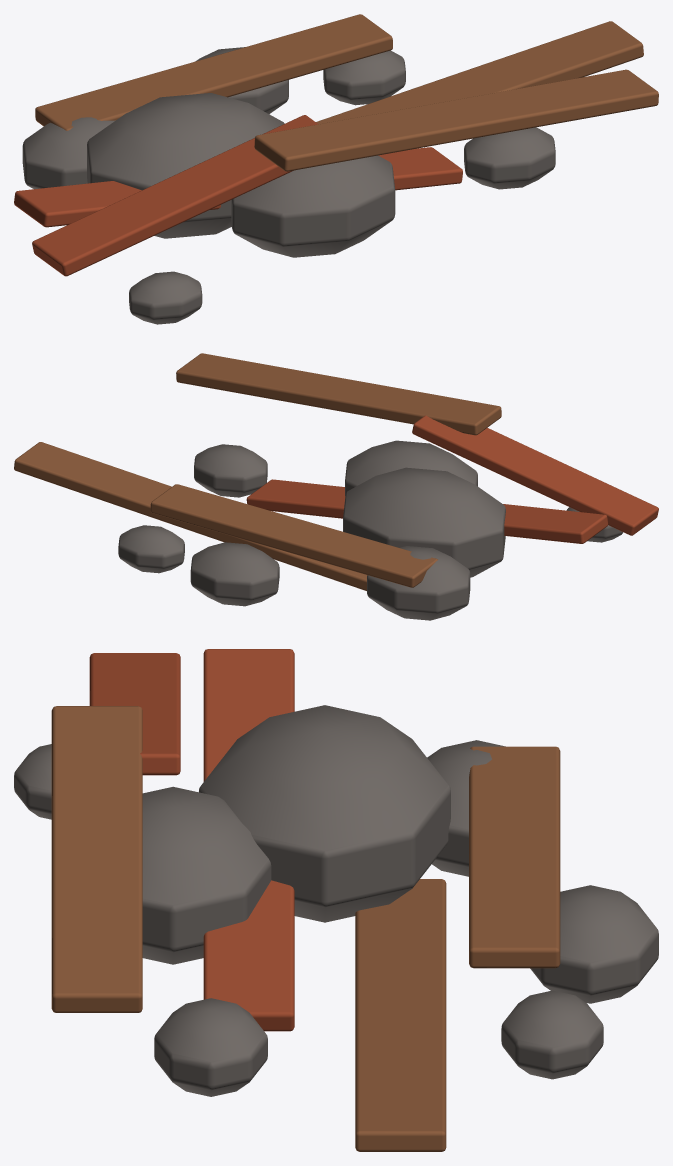
Rendered from SM_PRP_Entulho.fbx.
3 renders of one model, top to bottom at view 1: azimuth 30°, elevation 25°; view 2: azimuth 150°, elevation 25°; view 3: azimuth 270°, elevation 25°, orthographic. The views are drawn at different scales.
Parts seen in each view (by area): view 1: SM_PRP_Entulho; view 2: SM_PRP_Entulho; view 3: SM_PRP_Entulho.
Part boxes in pixels (x1,y1,x2,y2): SM_PRP_Entulho: (14, 14, 658, 324); SM_PRP_Entulho: (14, 353, 658, 620); SM_PRP_Entulho: (14, 649, 658, 1151).
Size of the model in its own units: 1.44 by 0.2811 by 0.85.
